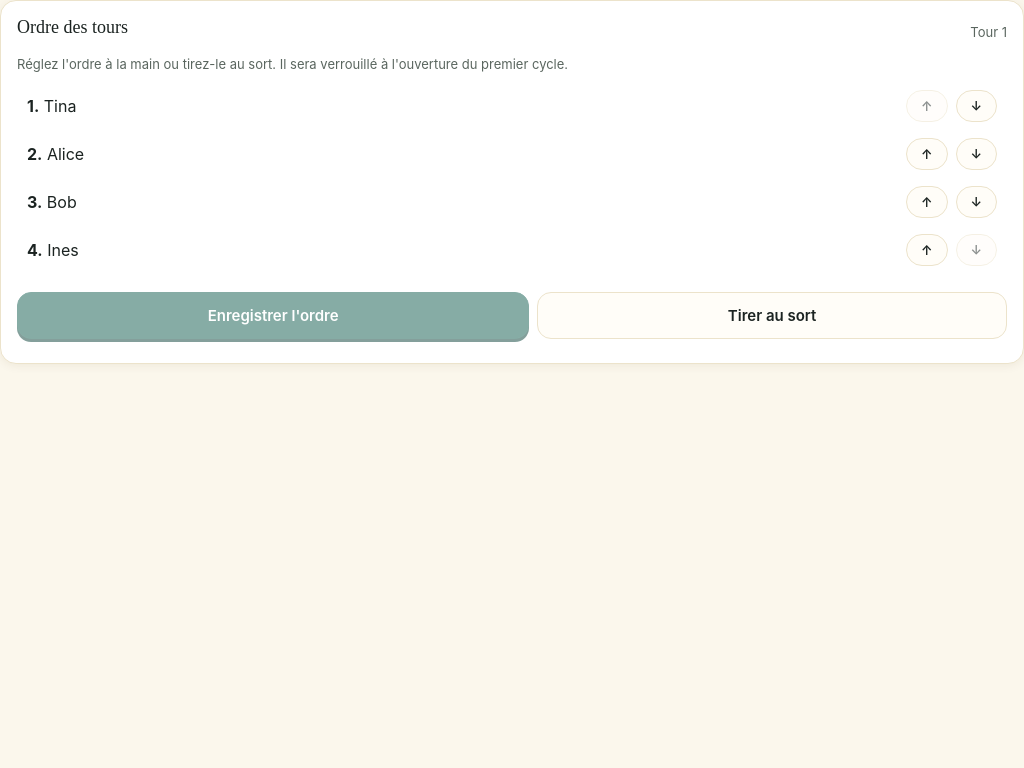
Scenario: onglet Tours › tirage au sort : confirmation, puis résultat affiché
Click the button "Tirer au sort": (772, 316) [537,292,1007,339]
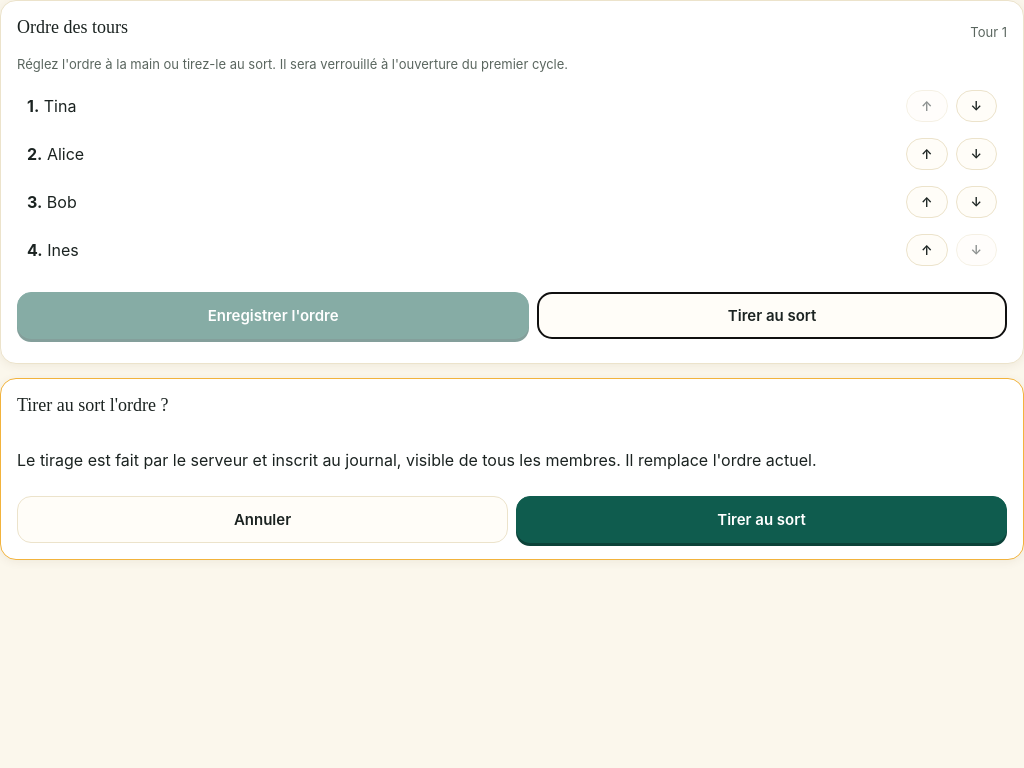
Click the 2nd button "Tirer au sort": (762, 520) [516,496,1007,543]
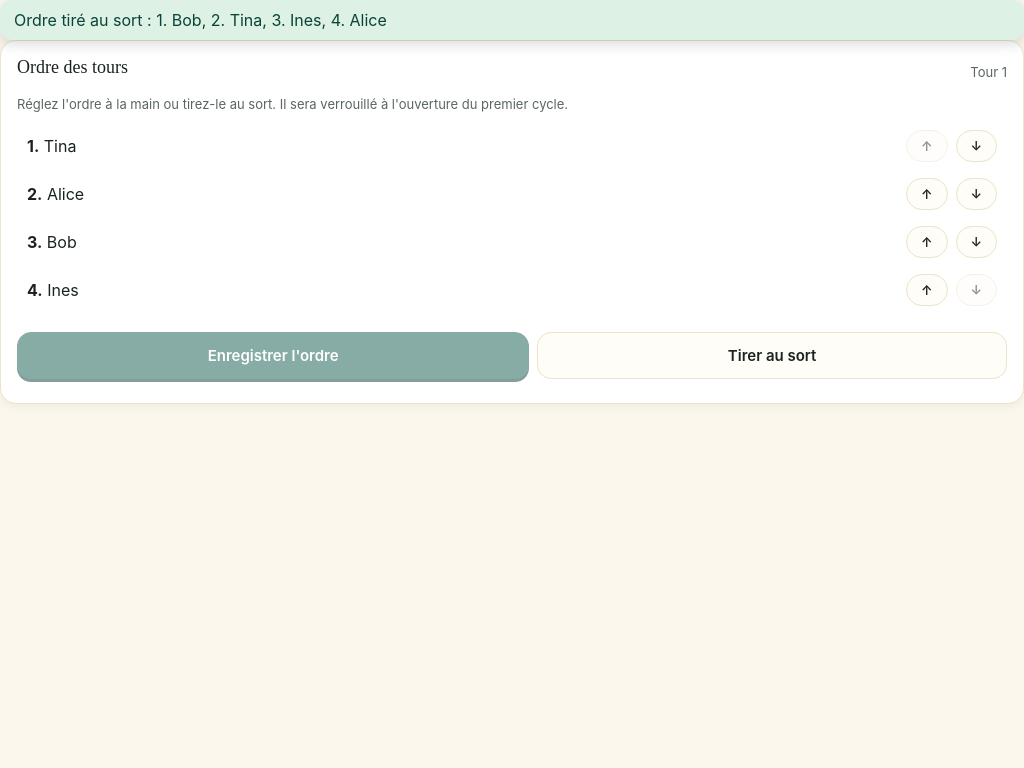
Expected: the text "Ordre tiré au sort : 1. Bob, 2. Tina, 3. Ines, 4. Alice" is shown, [0,0,1023,40]
